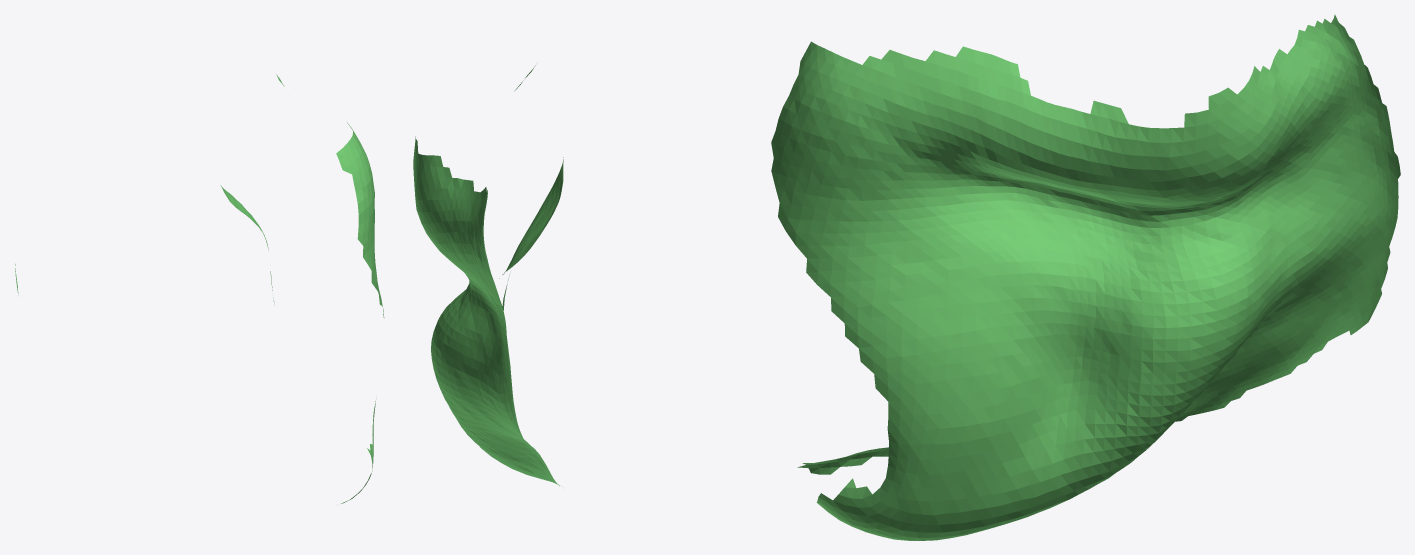
Rendered from lh_paracentral.glb.
3 renders of one model, left to right at view 1: azimuth 30°, elevation 25°; view 2: azimuth 150°, elevation 25°; view 3: azimuth 270°, elevation 25°, orthographic. The views are drawn at different scales.
Visible parts, largest first — view 1: world; view 2: world; view 3: world.
Part boxes in pixels (x1,y1,x2,y2): world: (15,74,384,503); world: (413,65,563,486); world: (771,14,1400,540).
Size of the model in its own units: 16.47 by 32.4 by 37.27.
